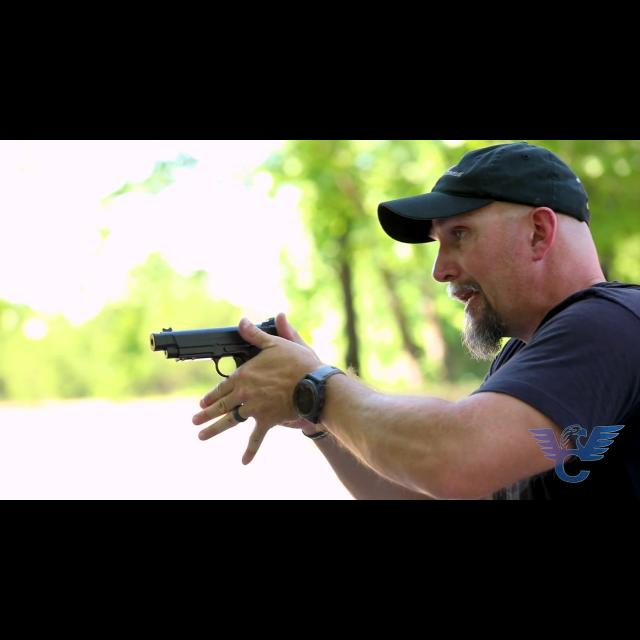handgun: (144, 314, 280, 378)
